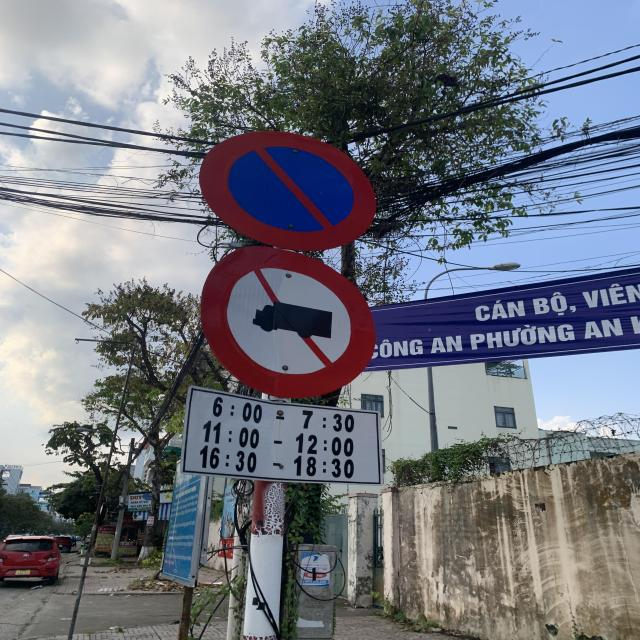Cam_Dau_Xe: (198, 130, 378, 253)
Cam_Xe_Tai: (199, 247, 376, 399)
